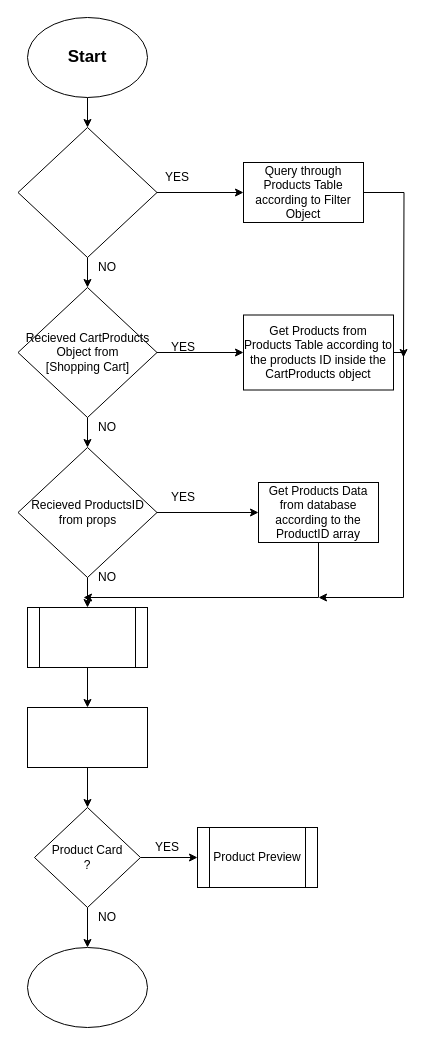
Image size: 429x1045. Some labels were removed from this diagram. The shapes that lost their labels are listed below. From the top down, each one's centre as x and y in pixels, then its label:
At (87,192): "Recieved Filter Object from [Filter]".
At (87,637): "Product Card".
At (87,737): "Show Products in Cols and Rows".
At (87,987): "END".
